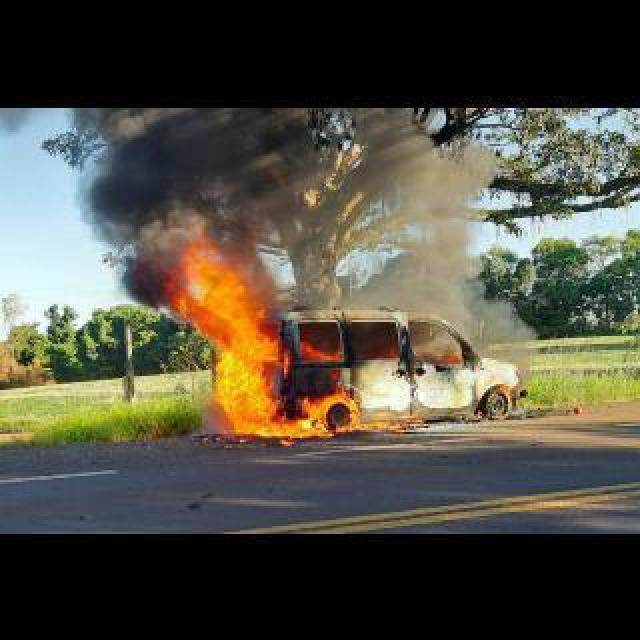fire: (363, 108, 540, 360), (58, 110, 395, 233), (99, 223, 172, 319)
smoke: (176, 236, 362, 438)
